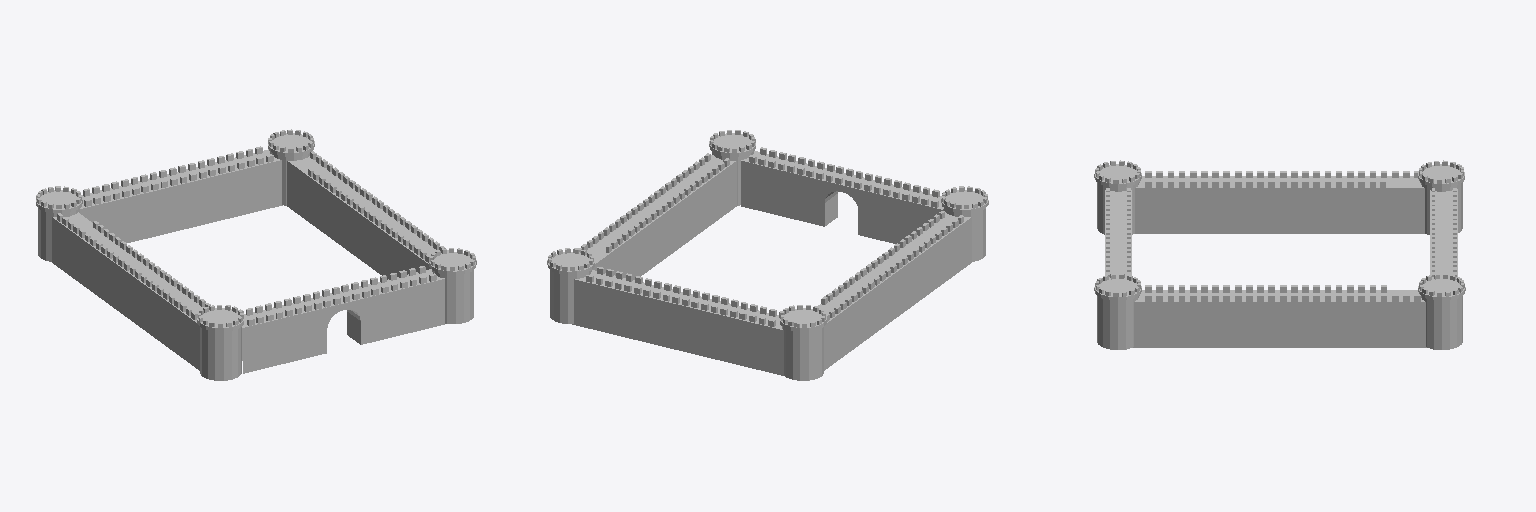
Rendered from Castle2.obj.
The picture shows the model from 3 angles: view 1: azimuth 30°, elevation 25°; view 2: azimuth 150°, elevation 25°; view 3: azimuth 270°, elevation 25°; orthographic projection.
Parts seen in each view (by area): view 1: Mesh; view 2: Mesh; view 3: Mesh.
Part boxes in pixels (x1,y1,x2,y2): Mesh: (36,129,476,380); Mesh: (547,130,988,380); Mesh: (1094,160,1465,349).
Size of the model in its own units: 53.37 by 10.92 by 62.77.